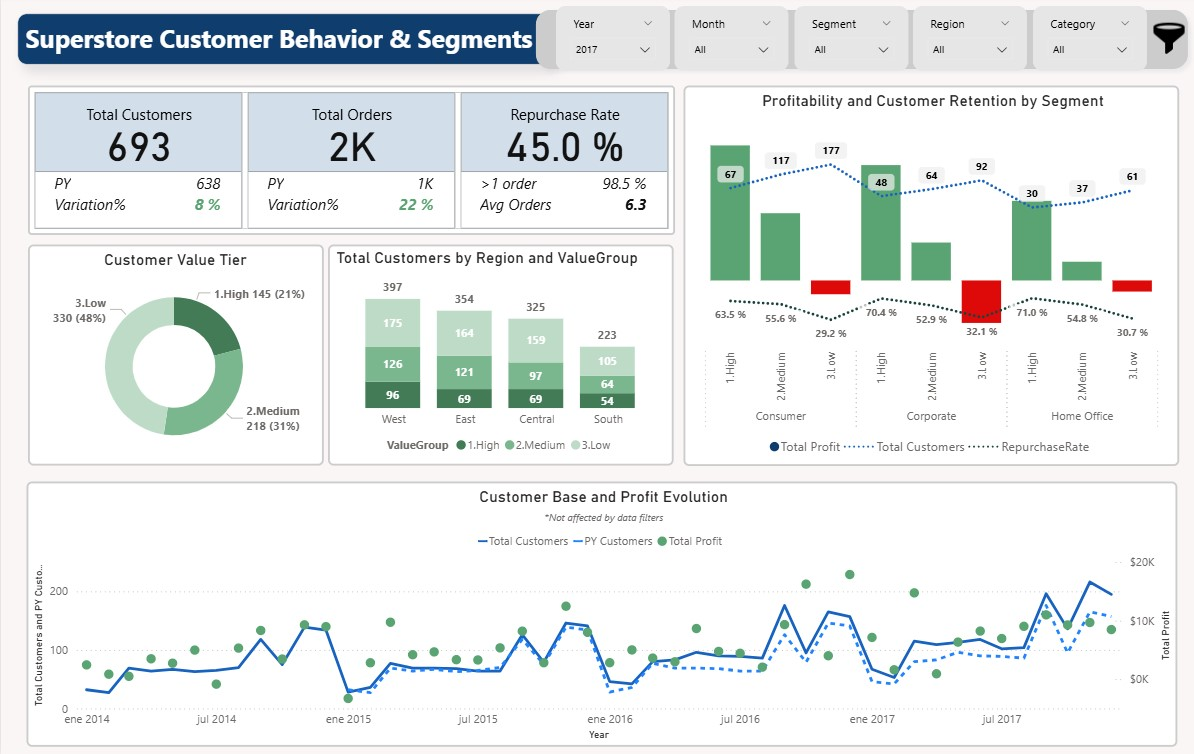

This screenshot's page, from the dashboard's own definition file:
{"tool":"powerbi","page":{"name":"Customer","canvas":[1280,820],"ordinal":2},"visuals":[{"type":"textbox","box":[17.7,20.9,574,54.6],"z":0},{"type":"shape","box":[564.1,7.2,715.9,81.2],"z":1000},{"type":"slicer","fields":{"Values":["dim_Calendar.Year"]},"box":[593.7,13.1,122,69.4],"z":2000},{"type":"slicer","fields":{"Values":["dim_Calendar.Month"]},"box":[721.4,13.1,122,69.4],"z":3000},{"type":"slicer","fields":{"Values":["dim_Segments.Segment"]},"box":[849.1,13.1,122,69.4],"z":4000},{"type":"slicer","fields":{"Values":["dim_Regions.Region"]},"box":[976.8,13.1,122,69.4],"z":5000},{"type":"image","box":[1229,15.9,43.5,62.3],"z":6000},{"type":"slicer","fields":{"Values":["dim_Categories.Category"]},"box":[1104.6,13.1,122,69.4],"z":7000},{"type":"lineClusteredColumnComboChart","title":"Profitability and Customer Retention by Segment","fields":{"Category":["dim_Segments.Segment","dim_Customers.ValueGroup"],"Y":["0  DAX Measures.Total Profit"],"Y2":["0  DAX Measures.Total Customers","0  DAX Measures.RepurchaseRate"]},"box":[729.8,97.9,530.5,407.6],"z":8000},{"type":"cardVisual","fields":{"Data":["0  DAX Measures.Total Customers","0  DAX Measures.Total Orders","0  DAX Measures.RepurchaseRate"]},"box":[28.5,97.9,692.4,160.2],"z":9000},{"type":"lineChart","title":"Customer Base and Profit Evolution","fields":{"Y":["0  DAX Measures.Total Customers","0  DAX Measures.PY Customers"],"Category":["dim_Calendar.Date.Variation.Date Hierarchy.Year","dim_Calendar.Date.Variation.Date Hierarchy.Quarter","dim_Calendar.Date.Variation.Date Hierarchy.Month"],"Y2":["0  DAX Measures.Total Profit"]},"box":[28,522,1232,284],"z":10000},{"type":"donutChart","title":"Customer Value Tier ","fields":{"Category":["dim_Customers.ValueGroup"],"Y":["0  DAX Measures.Total Customers"]},"box":[28.5,268.8,316.9,236.7],"z":11000},{"type":"columnChart","fields":{"Category":["dim_Regions.Region"],"Y":["Divide(0  DAX Measures.Total Customers, ScopedEval(0  DAX Measures.Total Customers, []))"],"Series":["dim_Customers.ValueGroup"]},"box":[350.7,268.8,370.3,236.7],"z":12000}]}

Visuals, with their boxes in screenshot pixels (x1, y1, x2, y2), scaled from the page's 1280x820 canvas onto the 1194x754 screenshot:
textbox: 17,19,552,69
shape: 526,7,1193,81
slicer - dim_Calendar.Year: 554,12,668,76
slicer - dim_Calendar.Month: 673,12,787,76
slicer - dim_Segments.Segment: 792,12,906,76
slicer - dim_Regions.Region: 911,12,1025,76
image: 1146,15,1187,72
slicer - dim_Categories.Category: 1030,12,1144,76
"Profitability and Customer Retention by Segment" lineClusteredColumnComboChart: 681,90,1176,465
cardVisual - 0  DAX Measures.Total Customers x 0  DAX Measures.Total Orders: 27,90,672,237
"Customer Base and Profit Evolution" lineChart: 26,480,1175,741
"Customer Value Tier " donutChart: 27,247,322,465
columnChart - dim_Regions.Region x Divide(0  DAX Measures.Total Customers, ScopedEval(0  DAX Measures.Total Customers, [])): 327,247,673,465
